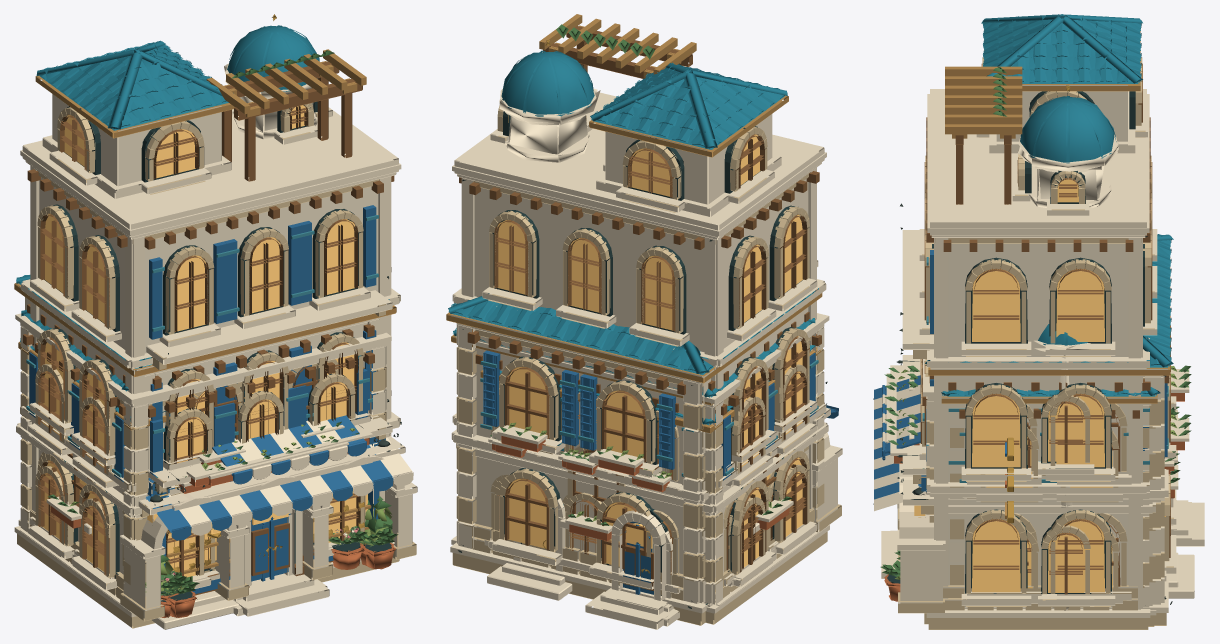
File: harbor.glb
The picture shows the model from 3 angles, left to right: view 1: azimuth 30°, elevation 25°; view 2: azimuth 150°, elevation 25°; view 3: azimuth 270°, elevation 25°; orthographic projection. The views are drawn at different scales.
Parts seen in each view (by area): view 1: harbor_villa_3_geometry, harbor_tower_2_geometry, harbor_shop_2_geometry, harbor_villa_3_geometry ceramic, harbor_hotel_2_geometry, harbor_junction_hub_geometry, harbor_tower_2_geometry ceramic; view 2: harbor_villa_3_geometry, harbor_shop_2_geometry, harbor_tower_2_geometry, harbor_villa_3_geometry ceramic, harbor_shop_2_geometry ceramic, harbor_junction_hub_geometry, harbor_hotel_2_geometry, harbor_hotel_2_geometry ceramic; view 3: harbor_villa_3_geometry, harbor_shop_2_geometry, harbor_hotel_2_geometry, harbor_villa_3_geometry ceramic, harbor_tower_2_geometry, harbor_junction_hub_geometry, harbor_shop_2_geometry ceramic, harbor_hotel_2_geometry ceramic.
Part boxes in pixels (x1,y1,x2,y2): harbor_villa_3_geometry: (19,14,401,626); harbor_tower_2_geometry: (14,313,391,628); harbor_shop_2_geometry: (14,283,413,617); harbor_villa_3_geometry ceramic: (36,25,378,452); harbor_hotel_2_geometry: (27,337,417,621); harbor_junction_hub_geometry: (18,341,367,629); harbor_tower_2_geometry ceramic: (26,359,369,477); harbor_villa_3_geometry: (451,14,827,622); harbor_shop_2_geometry: (446,293,838,629); harbor_tower_2_geometry: (464,313,829,626); harbor_villa_3_geometry ceramic: (501,50,787,149); harbor_shop_2_geometry ceramic: (448,288,818,461); harbor_junction_hub_geometry: (480,347,821,606); harbor_hotel_2_geometry: (451,335,842,619); harbor_hotel_2_geometry ceramic: (453,318,815,397); harbor_villa_3_geometry: (899,31,1157,629); harbor_shop_2_geometry: (873,247,1204,625); harbor_hotel_2_geometry: (888,348,1188,626); harbor_villa_3_geometry ceramic: (926,14,1142,445); harbor_tower_2_geometry: (884,340,1191,624); harbor_junction_hub_geometry: (882,375,1194,598); harbor_shop_2_geometry ceramic: (925,234,1173,464); harbor_hotel_2_geometry ceramic: (941,387,1160,482).
Bounding box in the file's own units: 1.04 × 1.69 × 0.99.
